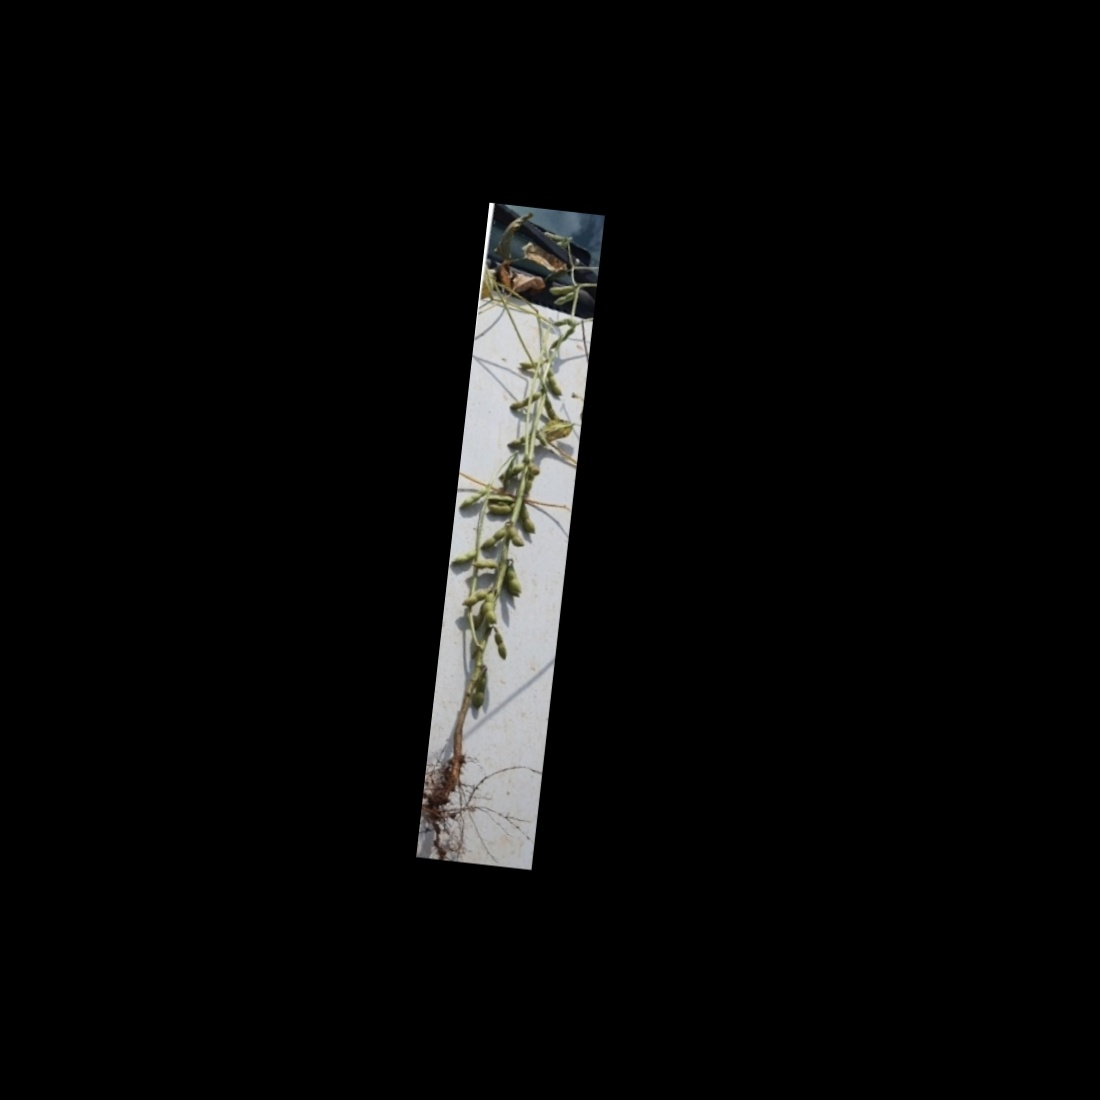pod: (479, 519, 511, 555), (458, 484, 488, 514), (507, 387, 539, 414), (470, 672, 492, 711), (517, 502, 539, 536), (491, 630, 511, 663), (546, 368, 567, 399), (459, 584, 486, 609), (450, 545, 476, 570), (480, 589, 500, 624), (485, 498, 515, 517), (472, 554, 504, 571), (507, 525, 528, 549), (546, 281, 575, 298), (554, 289, 576, 308), (543, 396, 561, 419)
soy: (422, 229, 593, 819)
